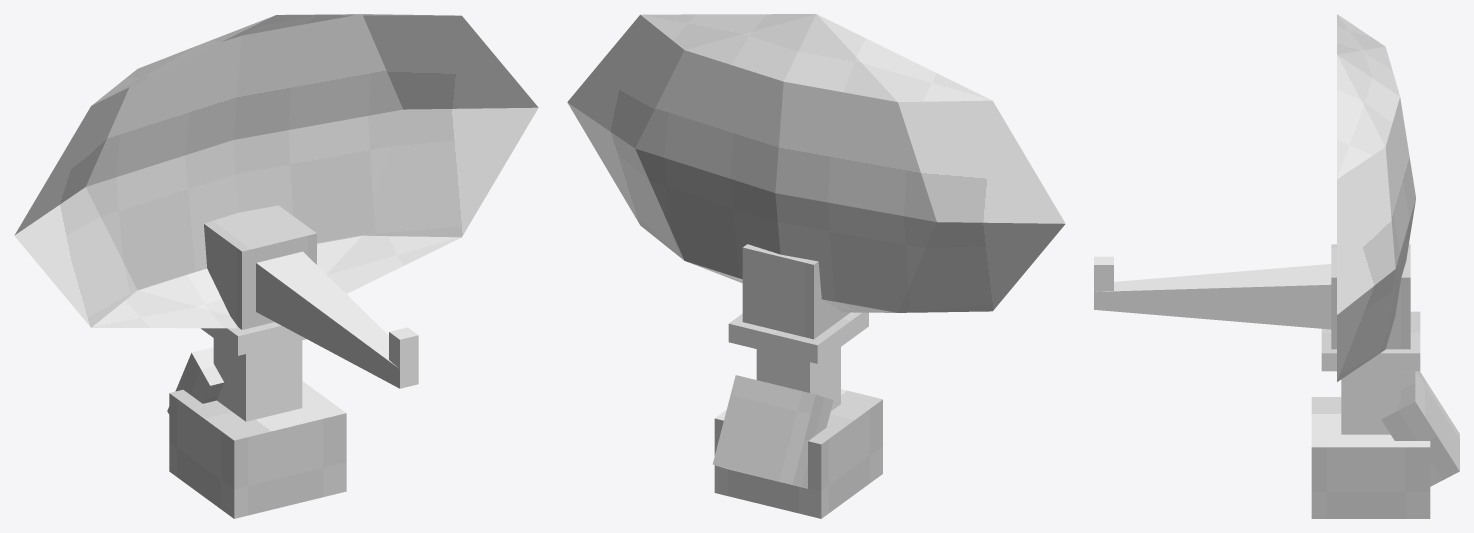
Rendered from ewr4000.obj.
3 views of the same model, side by side, from view 1: azimuth 30°, elevation 25°; view 2: azimuth 150°, elevation 25°; view 3: azimuth 270°, elevation 25° (orthographic). The views are drawn at different scales.
Visible parts, largest first — view 1: sphere, cube5, cuboid, cube7, cube4, cube2, cube6, cube1; view 2: sphere, cube5, cube6, cube7, cube2, cube4; view 3: sphere, cube5, cuboid, cube6, cube4, cube2, cube7, cube1.
Boxes of the visible parts, bbox=[...] form: sphere: bbox=[14, 14, 538, 328]; cube5: bbox=[169, 381, 346, 518]; cuboid: bbox=[256, 251, 418, 388]; cube7: bbox=[204, 205, 316, 329]; cube4: bbox=[213, 338, 302, 421]; cube2: bbox=[201, 322, 306, 355]; cube6: bbox=[167, 347, 224, 414]; cube1: bbox=[389, 327, 418, 368]; sphere: bbox=[567, 14, 1065, 312]; cube5: bbox=[714, 389, 882, 518]; cube6: bbox=[712, 375, 833, 488]; cube7: bbox=[742, 244, 850, 339]; cube2: bbox=[728, 312, 868, 363]; cube4: bbox=[756, 347, 840, 411]; sphere: bbox=[1337, 14, 1415, 381]; cube5: bbox=[1311, 397, 1430, 518]; cuboid: bbox=[1094, 264, 1331, 329]; cube6: bbox=[1381, 371, 1459, 486]; cube4: bbox=[1341, 371, 1400, 434]; cube2: bbox=[1321, 311, 1420, 371]; cube7: bbox=[1331, 244, 1410, 349]; cube1: bbox=[1094, 256, 1113, 291].
Bounding box in the file's own units: 7 × 6.12 × 4.62.
